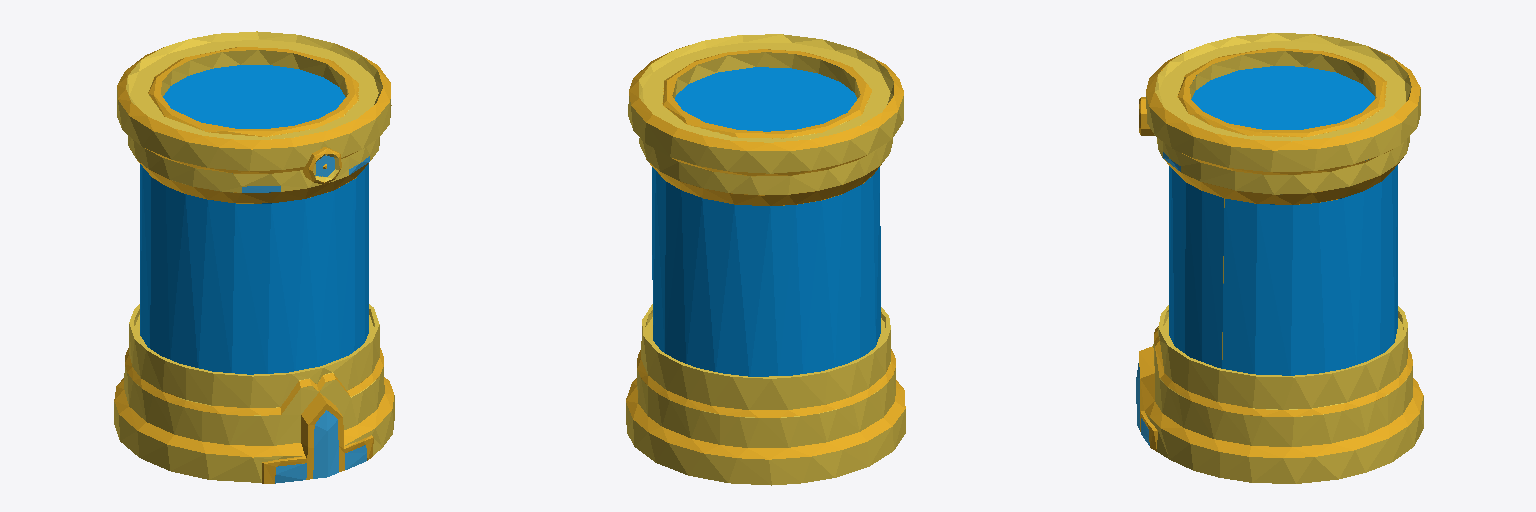
3 renders of one model, left to right at view 1: azimuth 30°, elevation 25°; view 2: azimuth 150°, elevation 25°; view 3: azimuth 270°, elevation 25°, orthographic.
Parts seen in each view (by area): view 1: Cylinder; view 2: Cylinder; view 3: Cylinder.
Part boxes in pixels (x1,y1,x2,y2): Cylinder: (114,31,394,483); Cylinder: (626,34,905,485); Cylinder: (1136,33,1423,483).
Bounding box in the file's own units: 2 × 2.66 × 2.05.
5 materials, 1 textured.